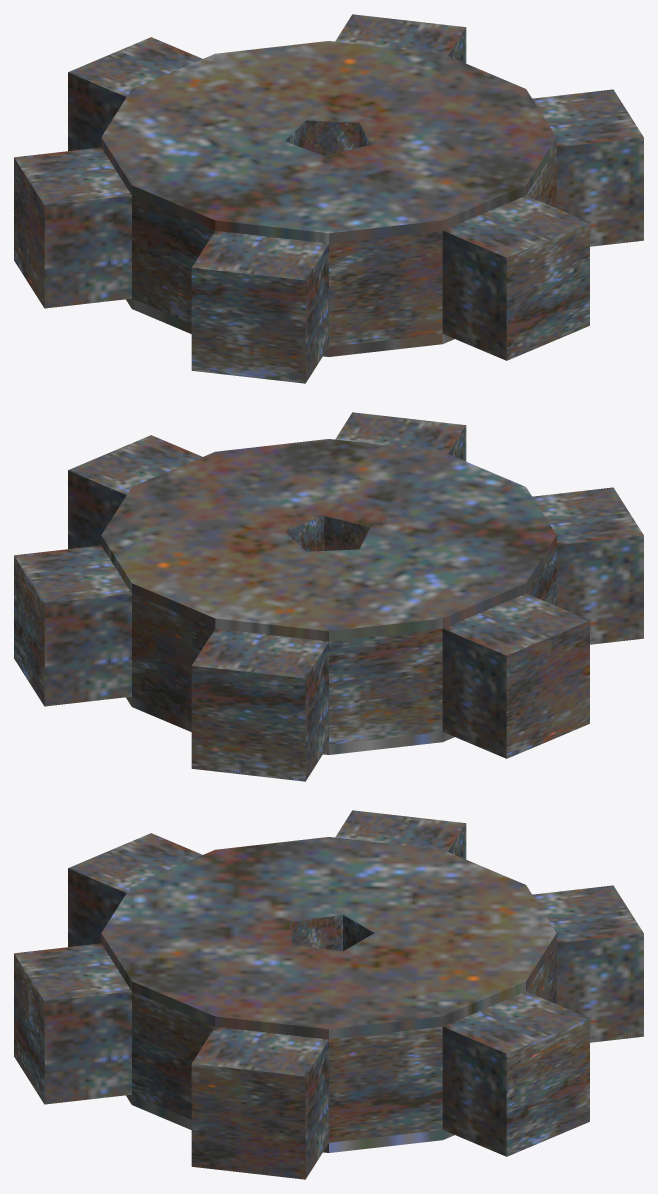
Rendered from Gear.fbx.
3 renders of one model, top to bottom at view 1: azimuth 30°, elevation 25°; view 2: azimuth 150°, elevation 25°; view 3: azimuth 270°, elevation 25°, orthographic.
Parts seen in each view (by area): view 1: Cylinder; view 2: Cylinder; view 3: Cylinder.
Part boxes in pixels (left/top/right/bottom): Cylinder: left=14, top=14, right=643, bottom=383; Cylinder: left=14, top=412, right=643, bottom=781; Cylinder: left=14, top=810, right=643, bottom=1179.
Size of the model in its own units: 277 by 60 by 277.
